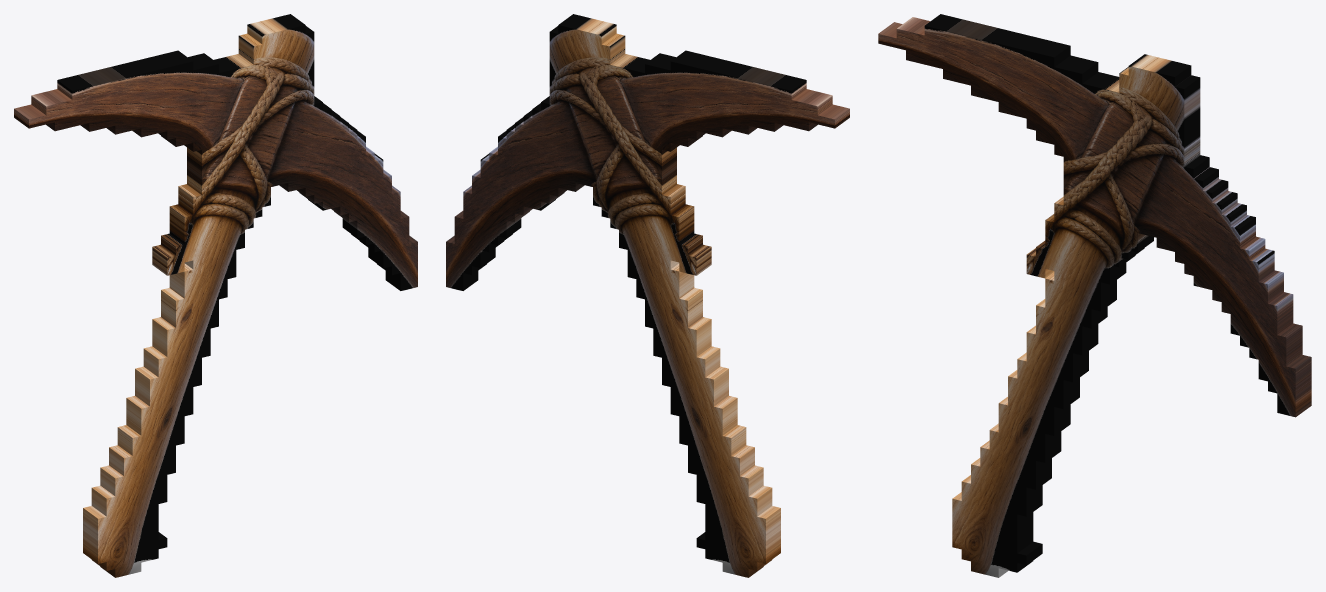
File: wood_pickaxe.glb
3 views of the same model, side by side, from view 1: azimuth 30°, elevation 25°; view 2: azimuth 150°, elevation 25°; view 3: azimuth 330°, elevation 25° (orthographic). The views are drawn at different scales.
Visible parts, largest first — view 1: wood_pickaxe_voxel; view 2: wood_pickaxe_voxel; view 3: wood_pickaxe_voxel.
Part boxes in pixels (bbox=[...]): wood_pickaxe_voxel: bbox=[14, 14, 417, 577]; wood_pickaxe_voxel: bbox=[446, 14, 849, 577]; wood_pickaxe_voxel: bbox=[878, 14, 1311, 577].
Size of the model in its own units: 2.25 by 2.8 by 0.15.
1 material, 1 textured.
